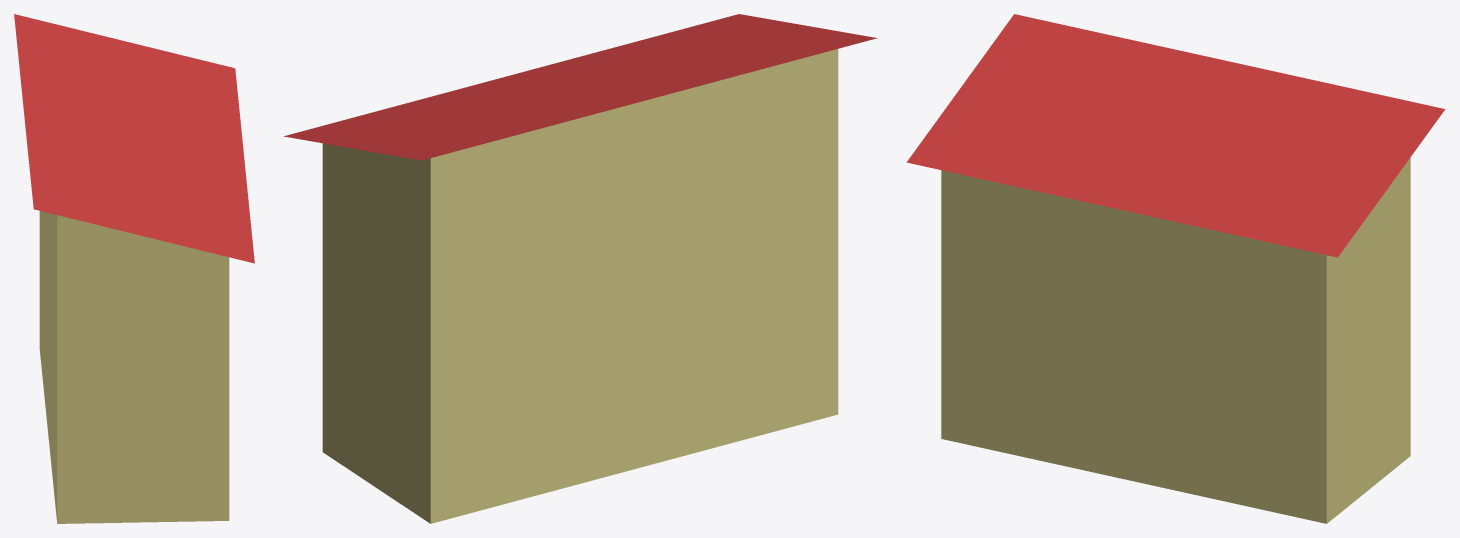
3 renders of one model, left to right at view 1: azimuth 30°, elevation 25°; view 2: azimuth 150°, elevation 25°; view 3: azimuth 270°, elevation 25°, orthographic. The views are drawn at different scales.
Parts seen in each view (by area): view 1: group_5, group_3, group_4; view 2: group_5, group_3, group_4; view 3: group_5, group_3, group_4.
Part boxes in pixels (<box>): group_5: <box>39,211,229,523</box>; group_3: <box>17,14,254,263</box>; group_4: <box>14,14,253,263</box>; group_5: <box>322,49,838,523</box>; group_3: <box>284,14,836,160</box>; group_4: <box>384,14,877,160</box>; group_5: <box>941,157,1410,523</box>; group_3: <box>907,35,1444,257</box>; group_4: <box>907,14,1444,170</box>.
Bounding box in the file's own units: 8.35 × 10.42 × 7.3.
